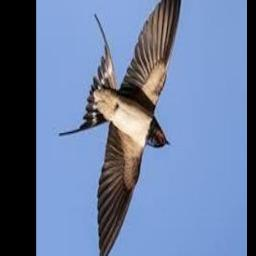Swallow: (58, 0, 182, 256)
